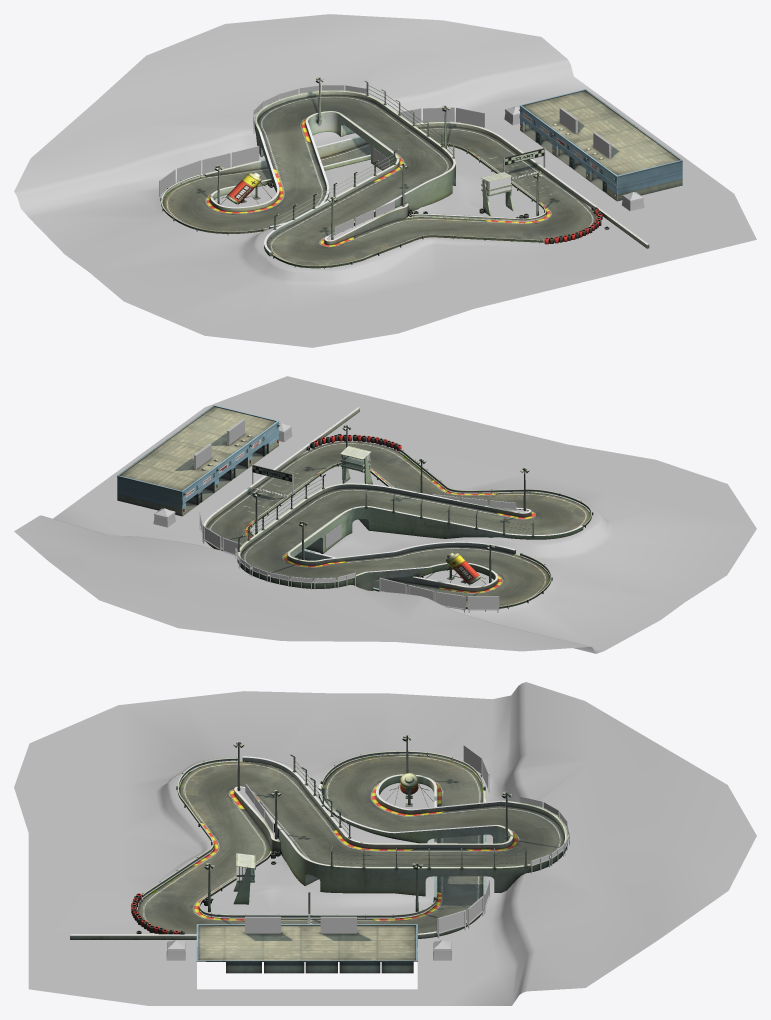
The model's file is Offroad.fbx.
3 renders of one model, top to bottom at view 1: azimuth 30°, elevation 25°; view 2: azimuth 150°, elevation 25°; view 3: azimuth 270°, elevation 25°, orthographic. The views are drawn at different scales.
Parts seen in each view (by area): view 1: Track2_Raceway_01, Track2_Raceway_01_Bridge; view 2: Track2_Raceway_01, Track2_Raceway_01_Bridge; view 3: Track2_Raceway_01, Track2_Raceway_01_Bridge.
Part boxes in pixels (x1=…): Track2_Raceway_01: x1=14, y1=14, x2=756, y2=347; Track2_Raceway_01_Bridge: x1=262, y1=97, x2=415, y2=184; Track2_Raceway_01: x1=14, y1=376, x2=756, y2=653; Track2_Raceway_01_Bridge: x1=253, y1=504, x2=419, y2=578; Track2_Raceway_01: x1=14, y1=682, x2=756, y2=1005; Track2_Raceway_01_Bridge: x1=424, y1=802, x2=483, y2=896.
Size of the model in its own units: 162 by 19.59 by 162.
